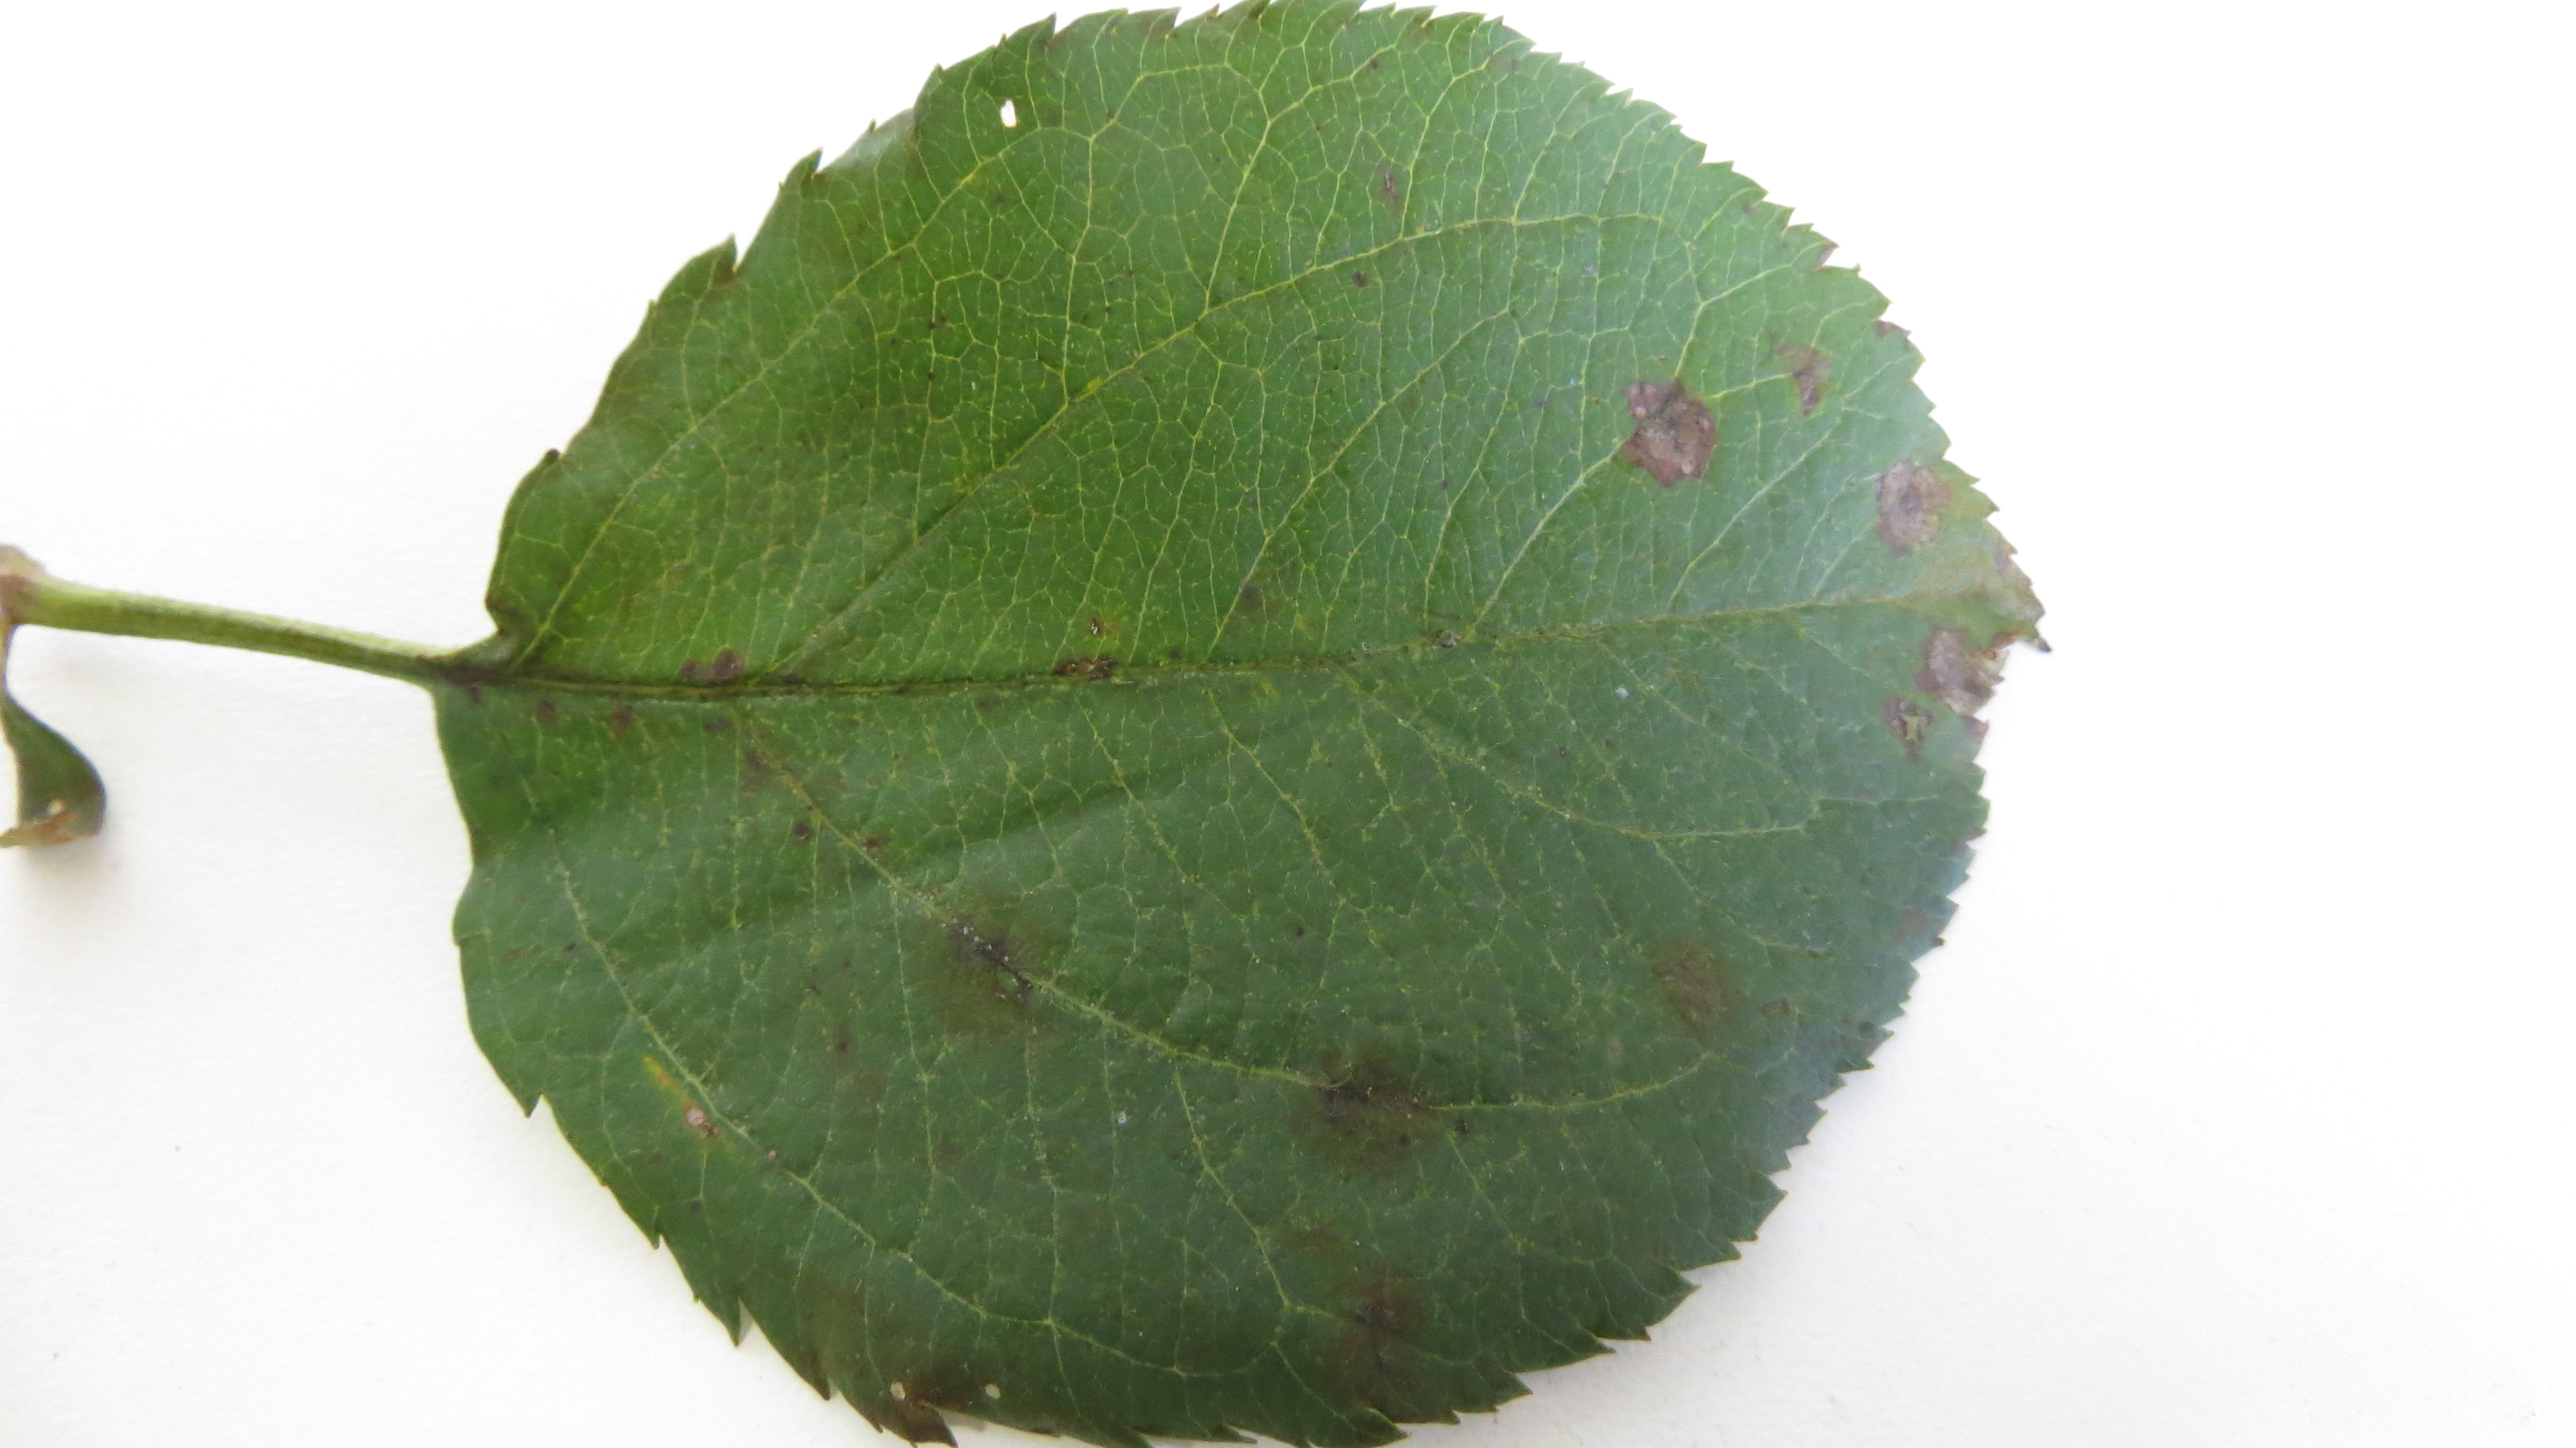sarna: (1267, 1209, 1444, 1418), (915, 871, 1067, 1053), (1290, 1028, 1468, 1177), (439, 607, 625, 743), (1615, 901, 1762, 1057), (674, 616, 814, 774), (1893, 600, 2026, 722), (1599, 361, 1721, 485), (872, 1321, 996, 1434), (1849, 437, 1950, 558), (1198, 531, 1304, 634), (1752, 324, 1838, 423), (1847, 682, 1936, 770), (1035, 625, 1145, 696)
